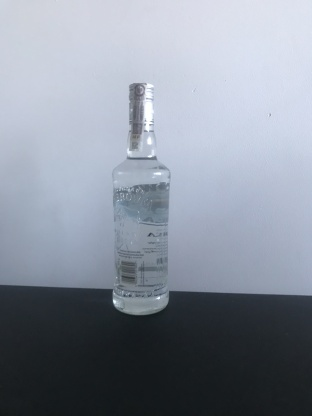nakretka: (126, 78, 157, 129)
